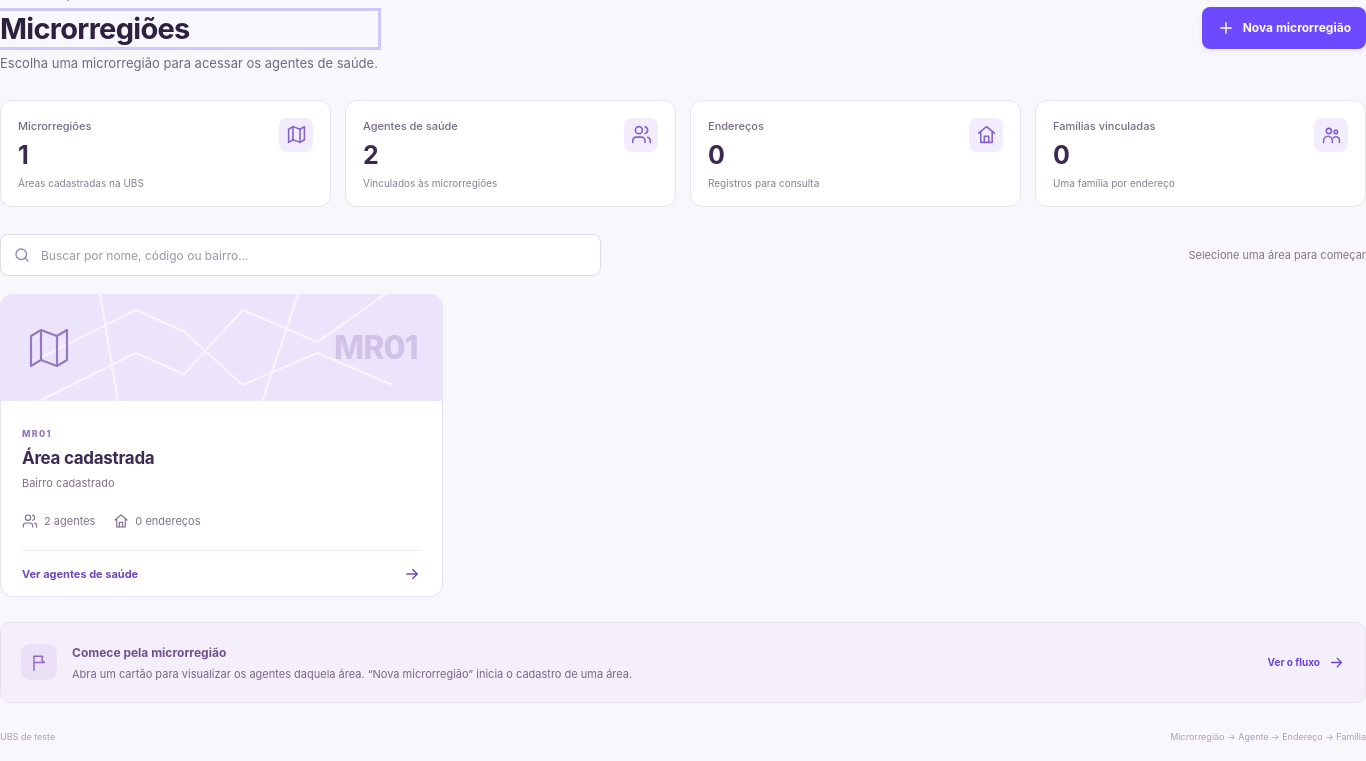
Test case: Cadastro territorial conectado à API › transfere também endereços arquivados antes de encerrar o vínculo
(page scrolled)
Click the button with aria-label "Abrir Área cadastrada".
click(221, 348)  # box [0,294,443,597]
(page scrolled)
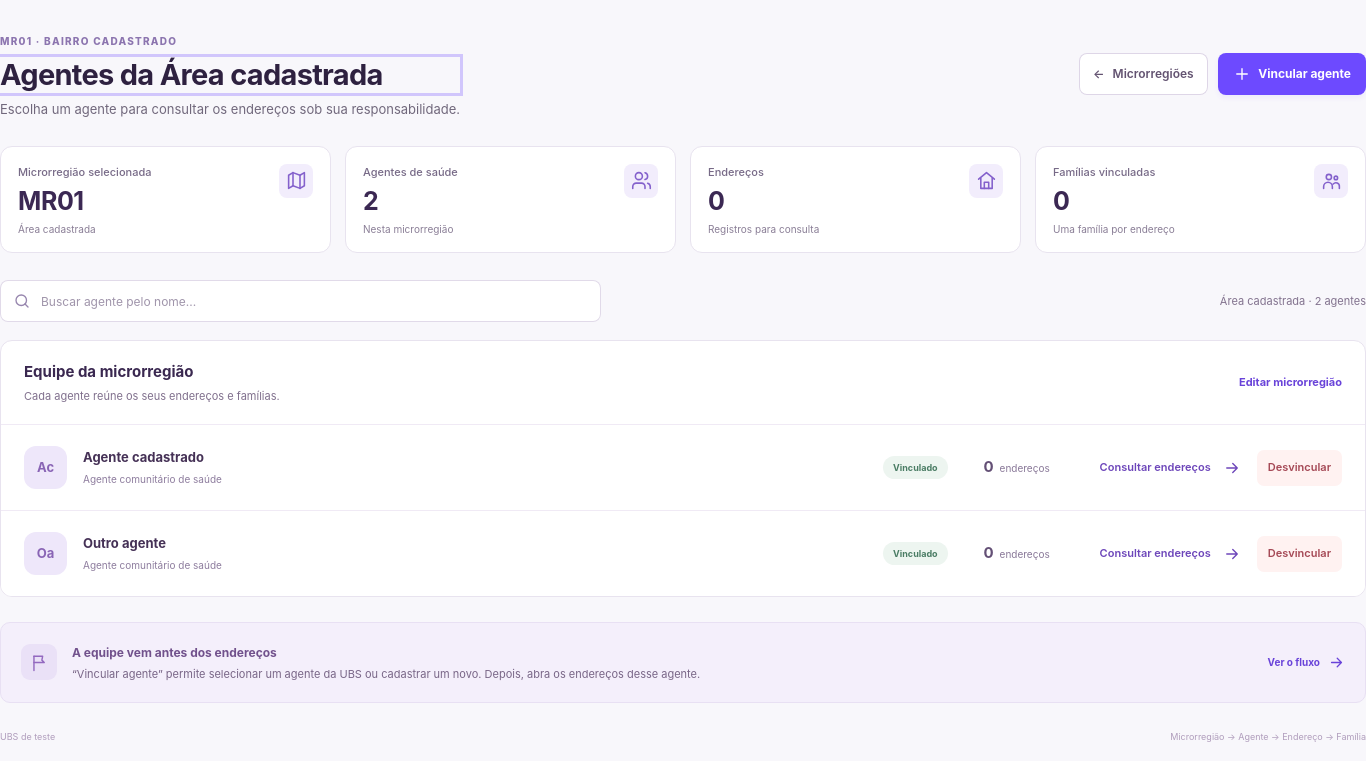
Click the button with aria-label "Desvincular Agente cadastrado".
click(1299, 468)  # box [1257,450,1342,486]
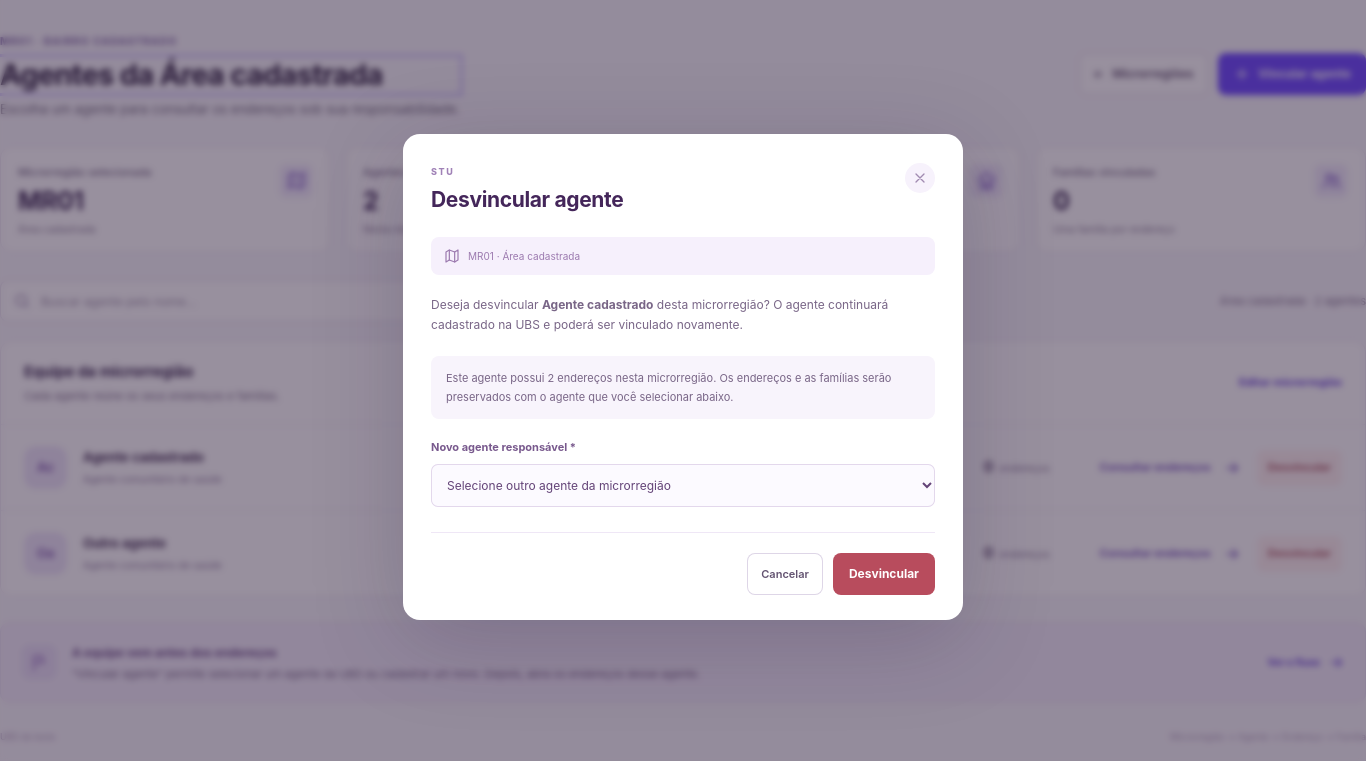
Select "Outro agente" in the dropdown labelled "Novo agente responsável *" at (683, 485), box [431,464,935,507]
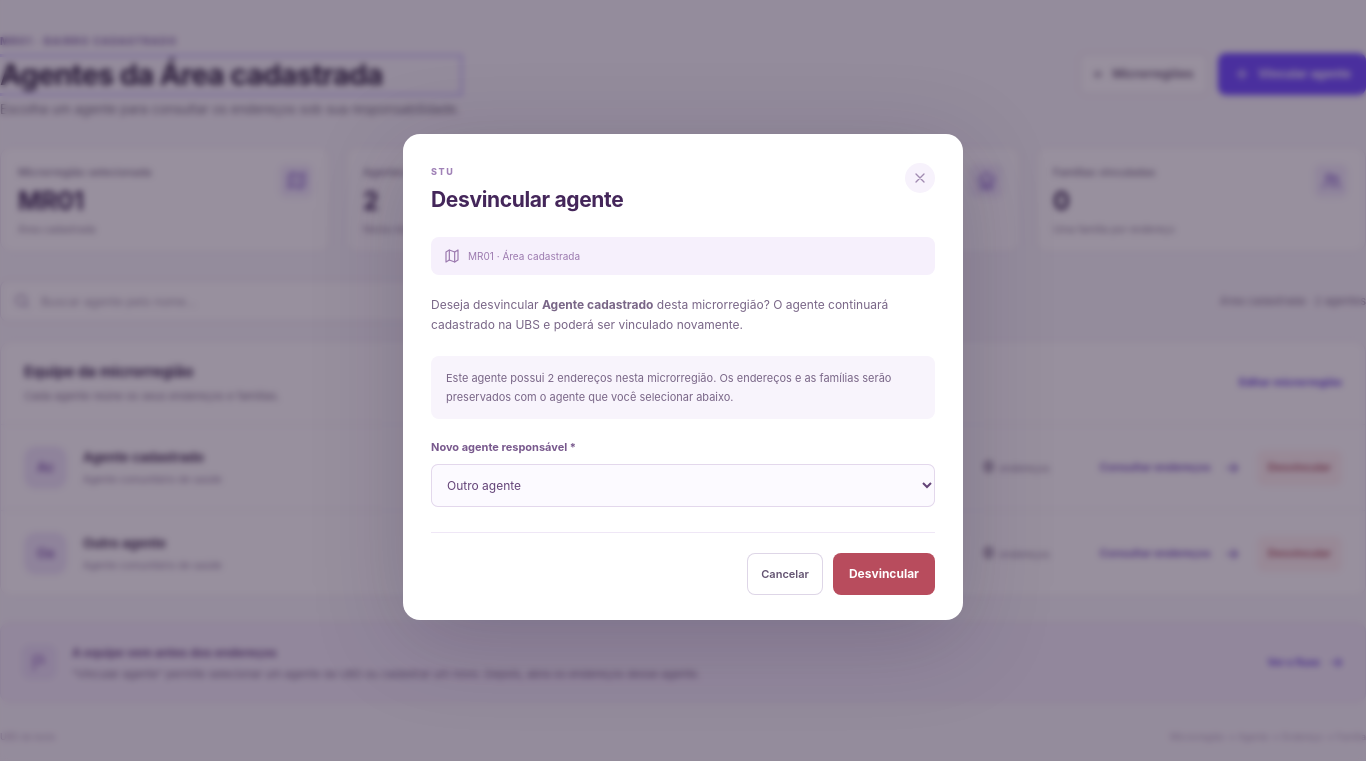
Click the button "Desvincular".
click(884, 574)  # box [833,553,935,595]
(page scrolled)
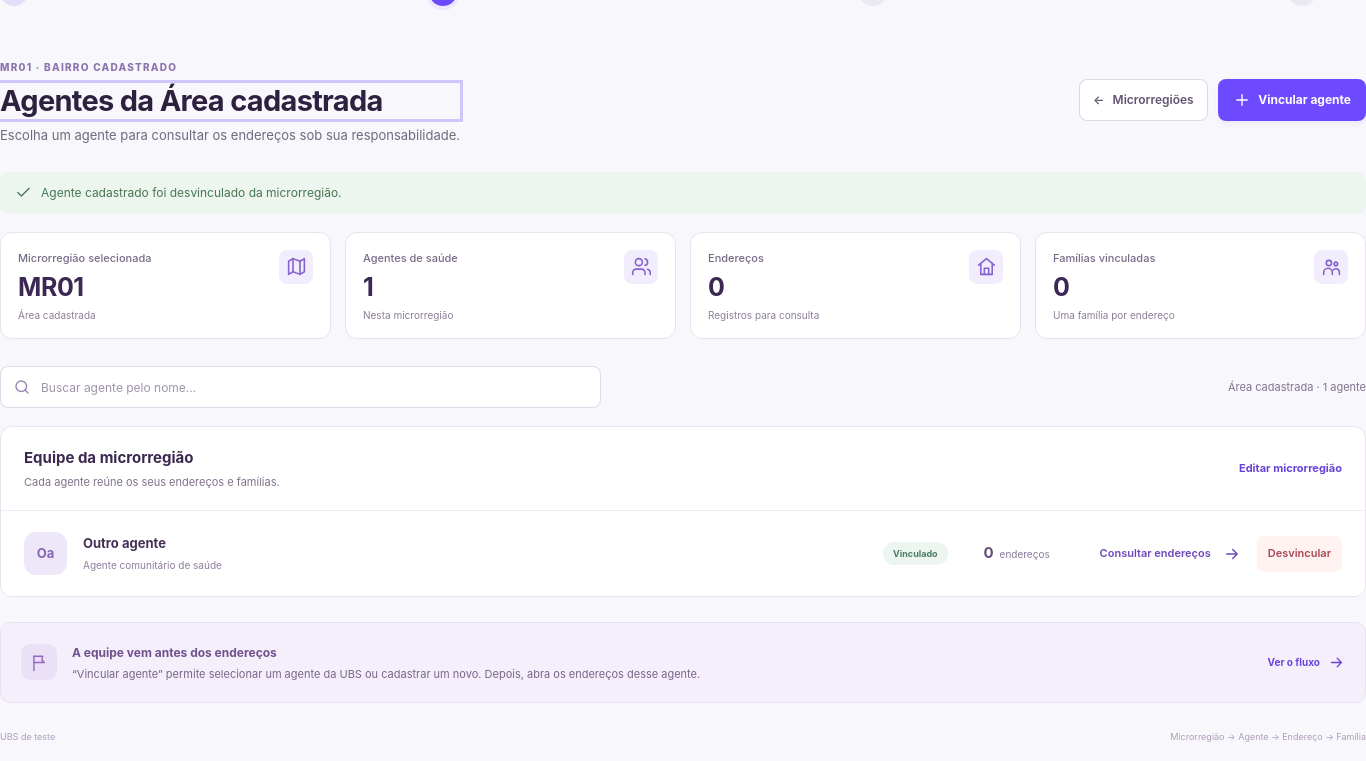
Check: the dialog is gone
